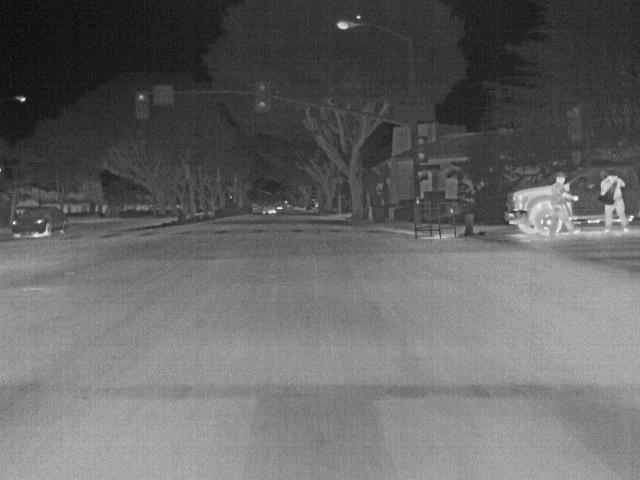car: (504, 184, 551, 237), (10, 205, 68, 239)
person: (597, 167, 631, 236), (550, 168, 573, 237)
